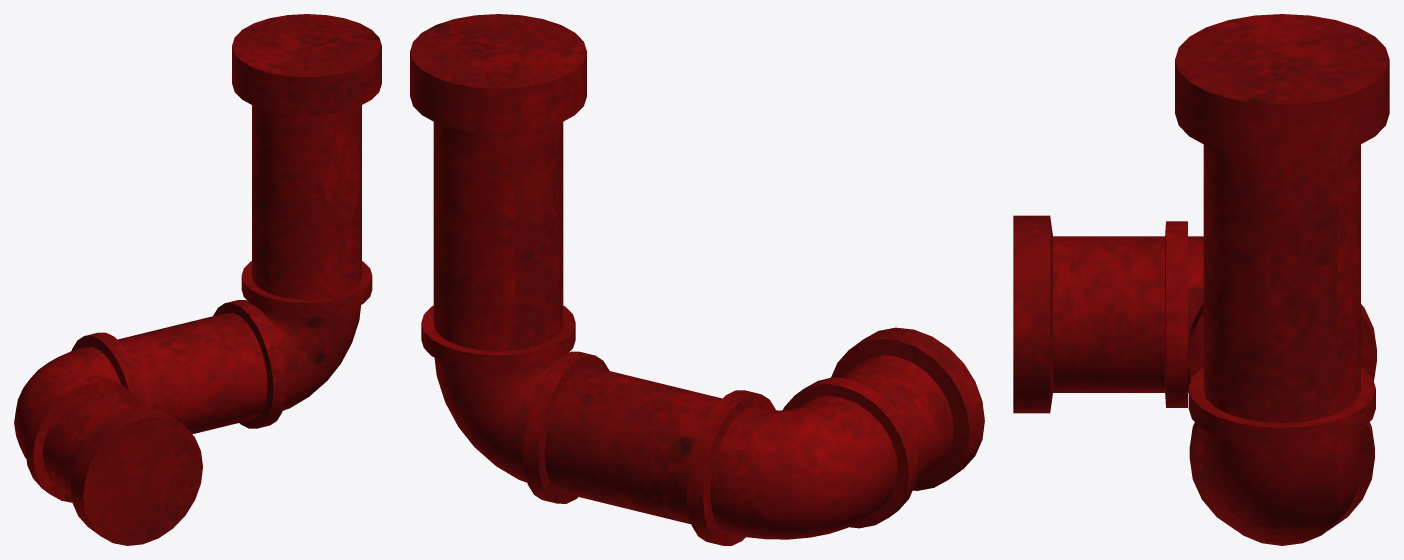
Rendered from factory_valve_pipe.glb.
3 views of the same model, side by side, from view 1: azimuth 30°, elevation 25°; view 2: azimuth 150°, elevation 25°; view 3: azimuth 270°, elevation 25° (orthographic). The views are drawn at different scales.
Visible parts, largest first — view 1: ValvePipe; view 2: ValvePipe; view 3: ValvePipe.
Boxes of the visible parts, x1=… form: ValvePipe: x1=14, y1=14, x2=381, y2=545; ValvePipe: x1=410, y1=14, x2=984, y2=545; ValvePipe: x1=1013, y1=14, x2=1389, y2=545.
Size of the model in its own units: 1.41 by 1.29 by 0.8381.
Materials: 1 (1 with a texture image).
